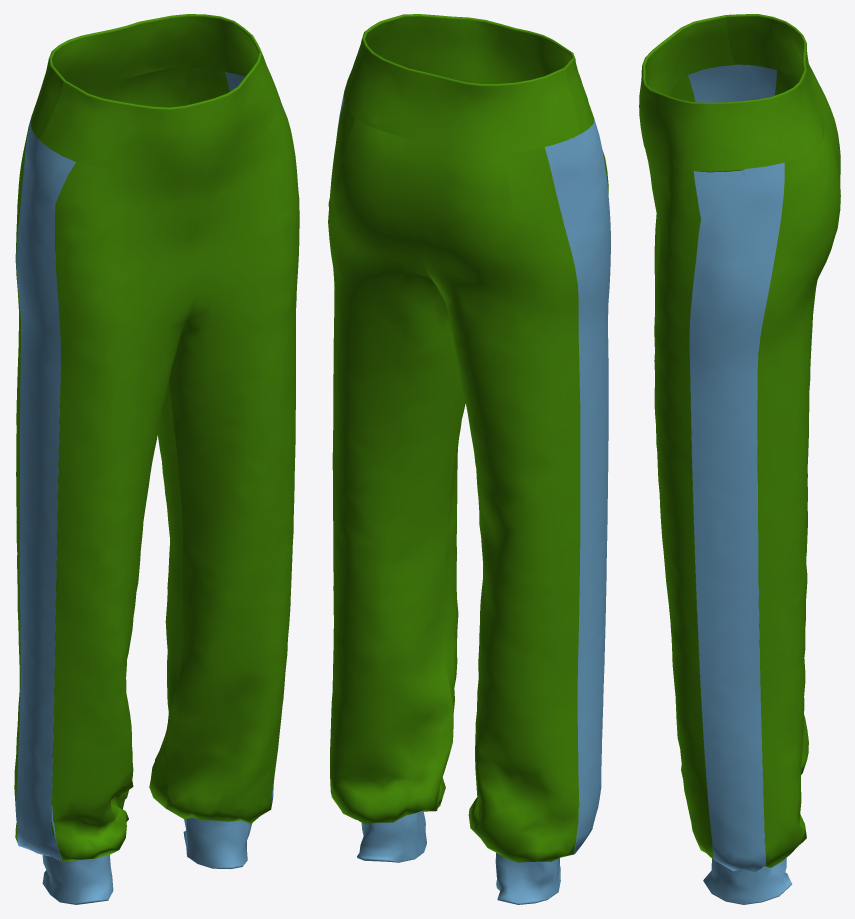
The picture shows the model from 3 angles, left to right: view 1: azimuth 30°, elevation 25°; view 2: azimuth 150°, elevation 25°; view 3: azimuth 270°, elevation 25°; orthographic projection. The views are drawn at different scales.
Parts seen in each view (by area): view 1: Pattern2D_4640240, Pattern2D_4476826, Pattern2D_4640238, Pattern2D_4220494, Pattern2D_4640241, Pattern2D_4002359, Pattern2D_4640239, Pattern2D_4555758; view 2: Pattern2D_4555758, Pattern2D_4640241, Pattern2D_4220494, Pattern2D_4640238, Pattern2D_4640240, Pattern2D_4640239, Pattern2D_4002359; view 3: Pattern2D_4640242, Pattern2D_4640241, Pattern2D_4640240, Pattern2D_4220494, Pattern2D_4640238, Pattern2D_4640239, Pattern2D_4555758, Pattern2D_4476826.
Boxes of the visible parts, box(x1,y1,x2,y2) form: Pattern2D_4640240: box(165, 106, 299, 823); Pattern2D_4476826: box(51, 162, 204, 861); Pattern2D_4640238: box(16, 121, 75, 861); Pattern2D_4220494: box(30, 14, 282, 170); Pattern2D_4640241: box(102, 68, 229, 807); Pattern2D_4002359: box(42, 854, 113, 904); Pattern2D_4640239: box(183, 817, 252, 869); Pattern2D_4555758: box(14, 83, 104, 843); Pattern2D_4555758: box(417, 142, 580, 862); Pattern2D_4640241: box(328, 102, 464, 824); Pattern2D_4220494: box(344, 14, 594, 152); Pattern2D_4640238: box(544, 119, 610, 854); Pattern2D_4640240: box(436, 400, 465, 810); Pattern2D_4640239: box(357, 811, 426, 862); Pattern2D_4002359: box(495, 852, 560, 904); Pattern2D_4640242: box(689, 162, 784, 872); Pattern2D_4640241: box(757, 116, 840, 867); Pattern2D_4640240: box(642, 136, 713, 859); Pattern2D_4220494: box(639, 14, 825, 172); Pattern2D_4640238: box(688, 64, 777, 102); Pattern2D_4640239: box(703, 858, 791, 904); Pattern2D_4555758: box(775, 70, 840, 774); Pattern2D_4476826: box(654, 75, 695, 308).
Bounding box in the file's own units: 34.76 × 106 × 24.1.
